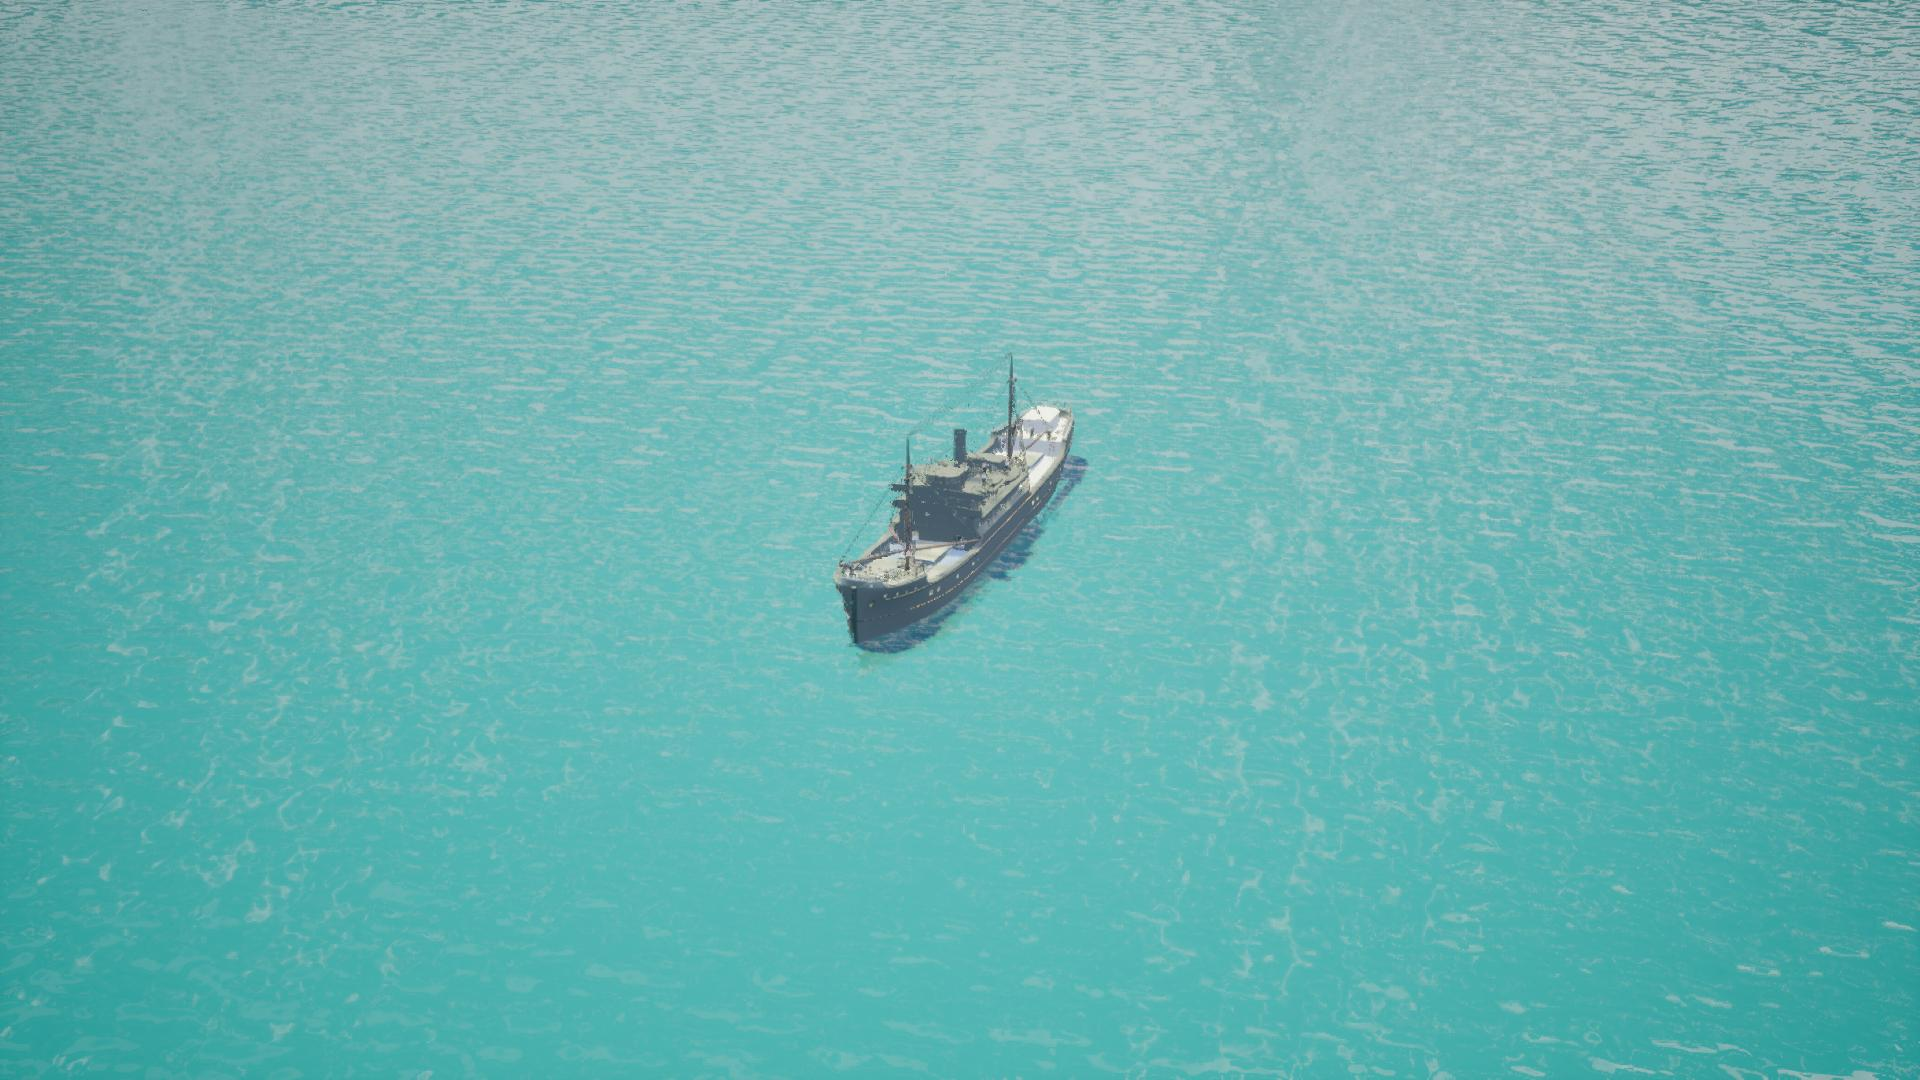Fishing Boat: (836, 406, 1087, 651)
